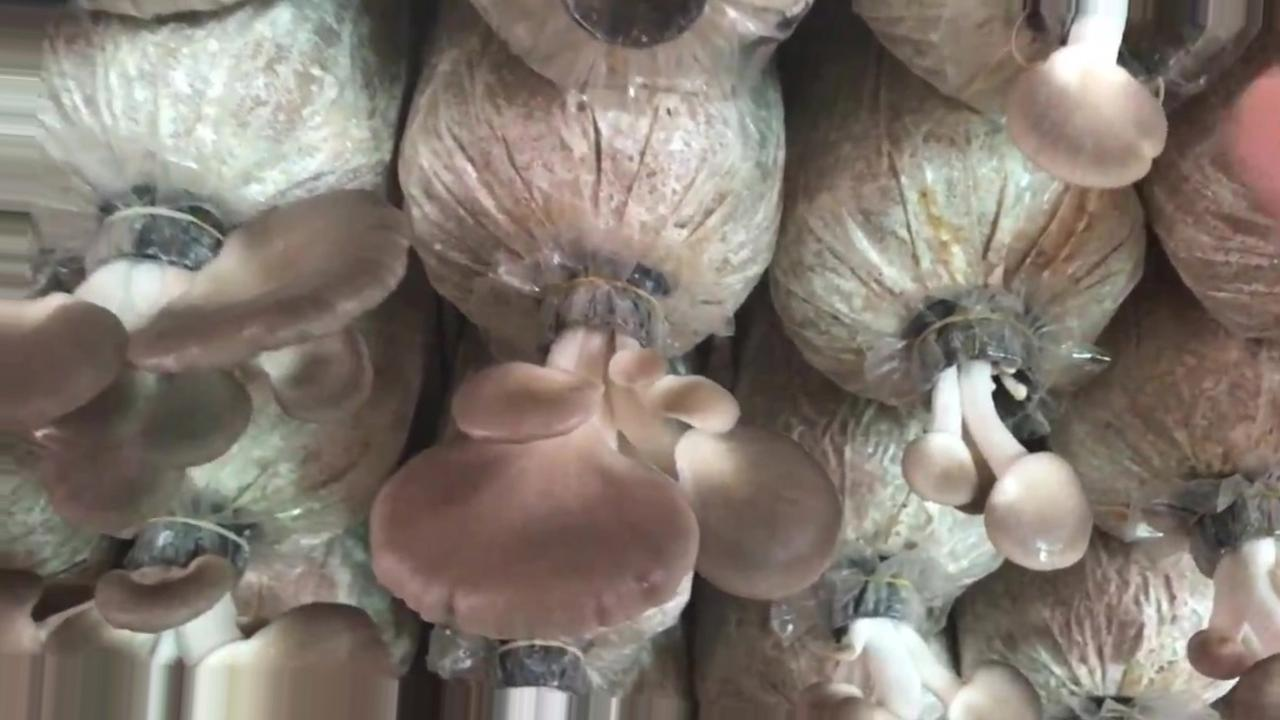nam: (368, 271, 843, 642), (1, 189, 407, 530), (1, 513, 399, 720), (902, 307, 1093, 574), (798, 571, 1035, 720), (1006, 1, 1165, 191), (1189, 485, 1280, 720)
